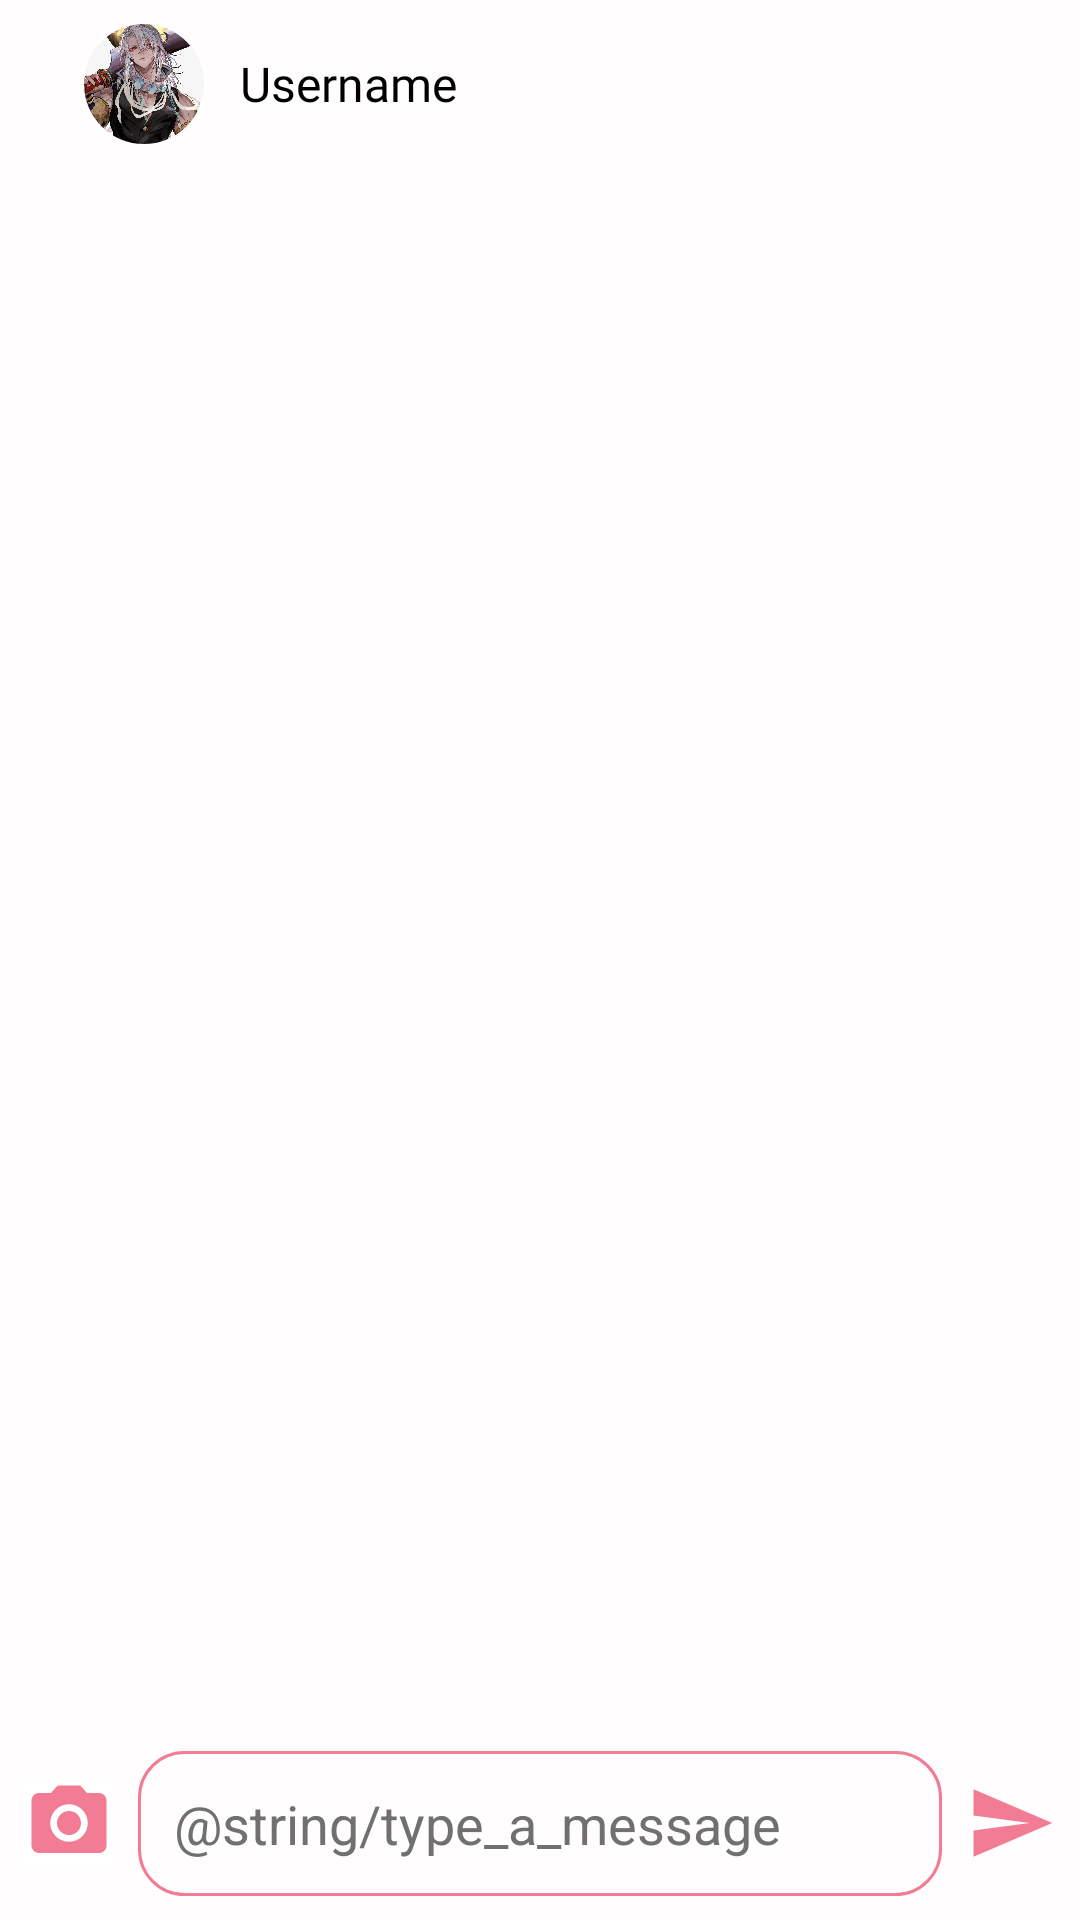

Where icons sit on this 1080px x 1920px app screen, as (x1, y1, x2, y2):
camera: (31, 1785, 107, 1853)
send: (973, 1789, 1052, 1857)
